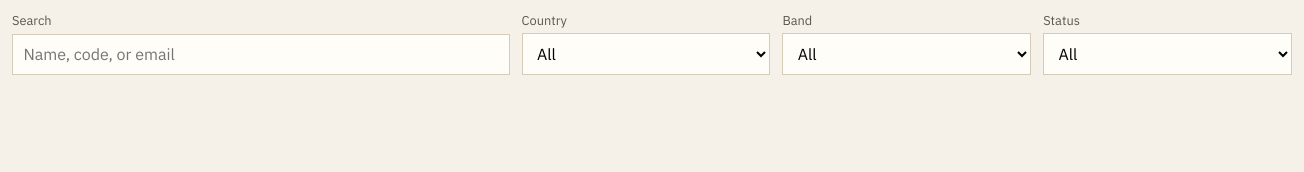
it: FilterBar › keeps search and country in sync
This screenshot has width=1304, height=172.
In the field with placeholder "Name, code, or email": (261, 54) top-left (12, 34), bottom-right (510, 75), type "Ada"
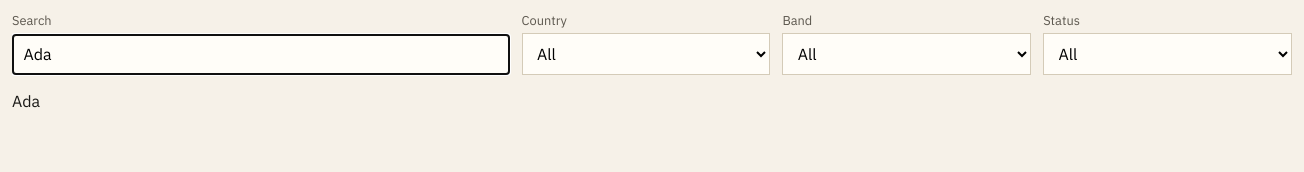
Select "US" in the dropdown labelled "Country": (646, 54) top-left (522, 33), bottom-right (770, 75)
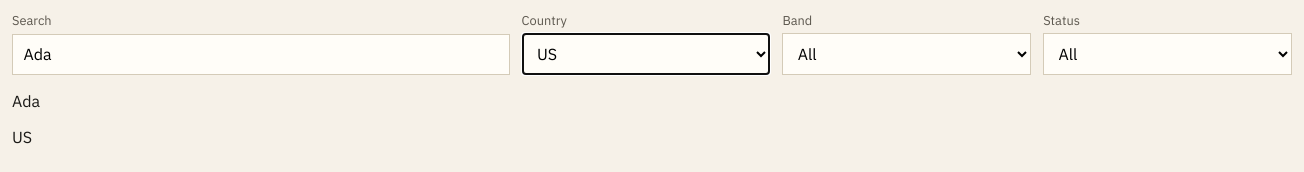
Expected: the text with test id "q" reads "Ada", top-left (12, 91), bottom-right (40, 111)
Expected: the text with test id "country" reads "US", top-left (12, 127), bottom-right (32, 147)
